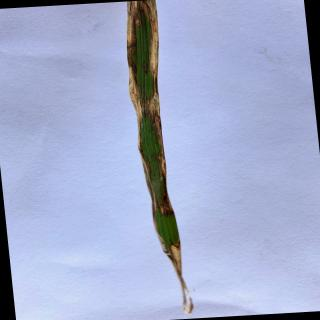Hawar-Daun: (126, 66, 167, 180), (127, 0, 159, 81), (168, 243, 196, 313), (156, 198, 172, 216)
